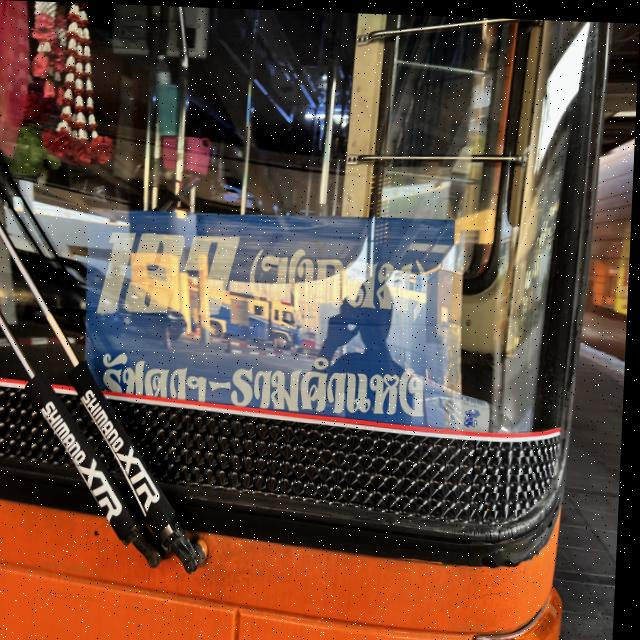BMTA-bus: (0, 0, 640, 640)
Destination-Sign-Normal: (86, 205, 458, 423)
